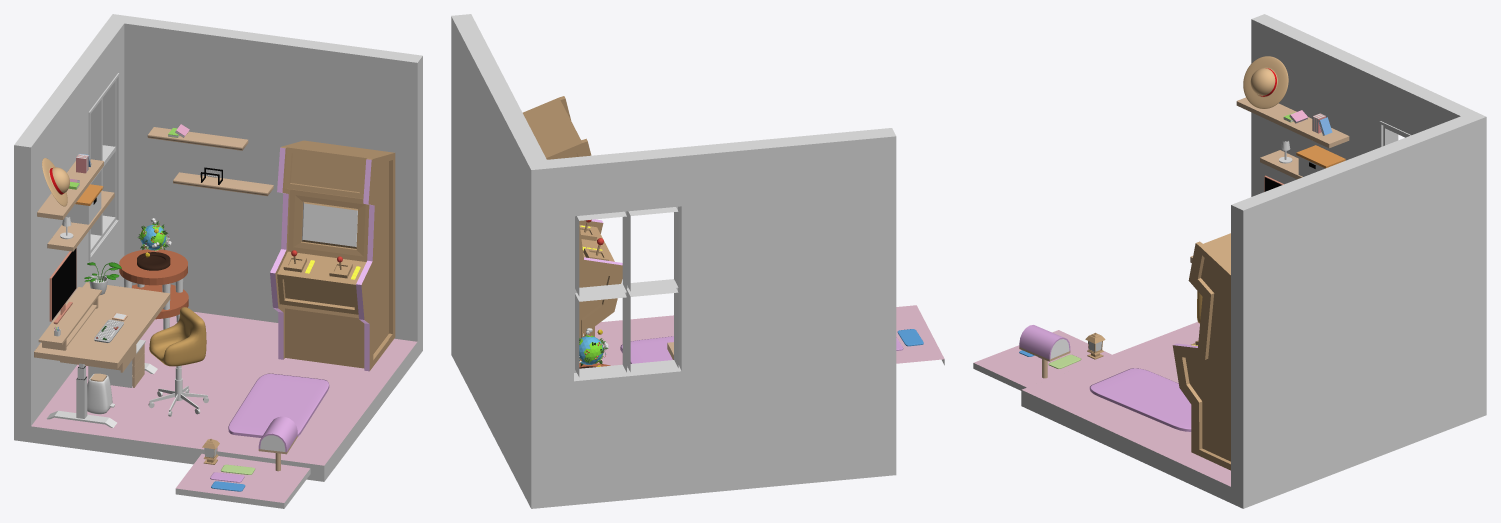
The model's file is chambre4.glb.
3 renders of one model, left to right at view 1: azimuth 30°, elevation 25°; view 2: azimuth 150°, elevation 25°; view 3: azimuth 270°, elevation 25°, orthographic. The views are drawn at different scales.
Parts seen in each view (by area): view 1: Cube, Plan.007, Table top, dehors, pierre.003, Plan, Chaise, ArcadeScreen, Meuble, Cylindre.009, Cube.081, Etager basse (+13 smaller); view 2: Cube, Plan, Plan.007, dehors, pierre.003, Icosphère; view 3: Cube, Plan.007, pierre.003, dehors, Sphère, Etager basse, Cylindre.013, boite, Etager haute.
Boxes of the visible parts, bbox=[...] form: Cube: bbox=[14, 14, 422, 481]; Plan.007: bbox=[270, 140, 395, 371]; Table top: bbox=[34, 282, 170, 368]; dehors: bbox=[175, 453, 310, 508]; pierre.003: bbox=[228, 373, 329, 437]; Plan: bbox=[88, 73, 119, 261]; Chaise: bbox=[149, 307, 206, 366]; ArcadeScreen: bbox=[302, 203, 357, 246]; Meuble: bbox=[38, 287, 101, 350]; Cylindre.009: bbox=[119, 249, 187, 285]; Cube.081: bbox=[173, 167, 273, 196]; Etager basse: bbox=[37, 159, 103, 219]; Cube: bbox=[451, 14, 896, 508]; Plan: bbox=[574, 206, 678, 377]; Plan.007: bbox=[523, 96, 622, 363]; dehors: bbox=[896, 305, 944, 365]; pierre.003: bbox=[620, 336, 673, 363]; Icosphère: bbox=[579, 328, 608, 366]; Cube: bbox=[1021, 14, 1486, 508]; Plan.007: bbox=[1172, 233, 1230, 470]; pierre.003: bbox=[1089, 368, 1191, 431]; dehors: bbox=[973, 330, 1111, 390]; Sphère: bbox=[1243, 56, 1288, 108]; Etager basse: bbox=[1236, 97, 1349, 148]; Cylindre.013: bbox=[1019, 325, 1070, 361]; boite: bbox=[1296, 145, 1345, 176]; Etager haute: bbox=[1260, 150, 1302, 179].
Bounding box in the file's own units: 28.29 × 20.03 × 31.21.
